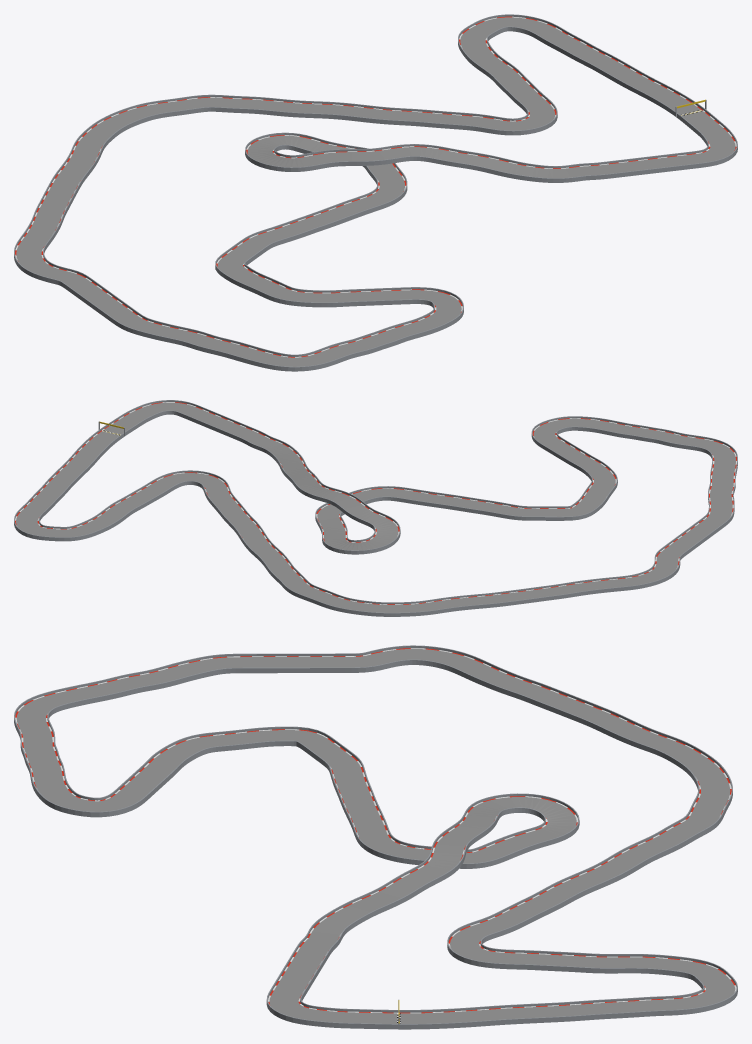
The model's file is monaco.glb.
3 views of the same model, one above another, from view 1: azimuth 30°, elevation 25°; view 2: azimuth 150°, elevation 25°; view 3: azimuth 270°, elevation 25° (orthographic). The views are drawn at different scales.
Parts seen in each view (by area): view 1: MonacoRoad; view 2: MonacoRoad; view 3: MonacoRoad.
Boxes of the visible parts, left/top/right/bottom form: MonacoRoad: left=14, top=14, right=737, bottom=371; MonacoRoad: left=14, top=400, right=737, bottom=616; MonacoRoad: left=14, top=645, right=737, bottom=1029.
Size of the model in its own units: 463 by 9.8 by 373.
